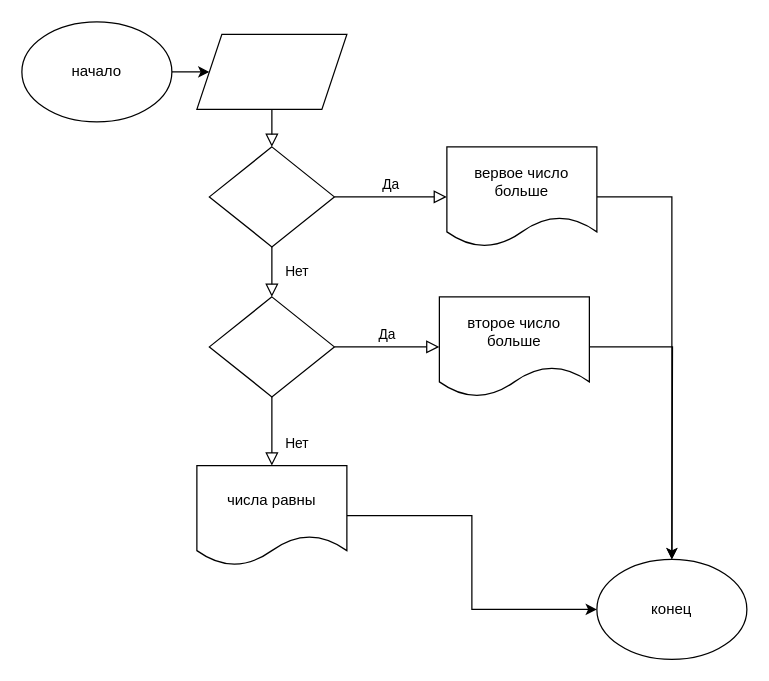
This 769x681 diagram has some shape labels left out. The box of each missing label's shape, as (x1, y1, x2, y2) in pixels:
a < b: (208, 296, 334, 397)
a > b: (208, 146, 334, 247)
ввод a. b: (196, 33, 347, 109)
